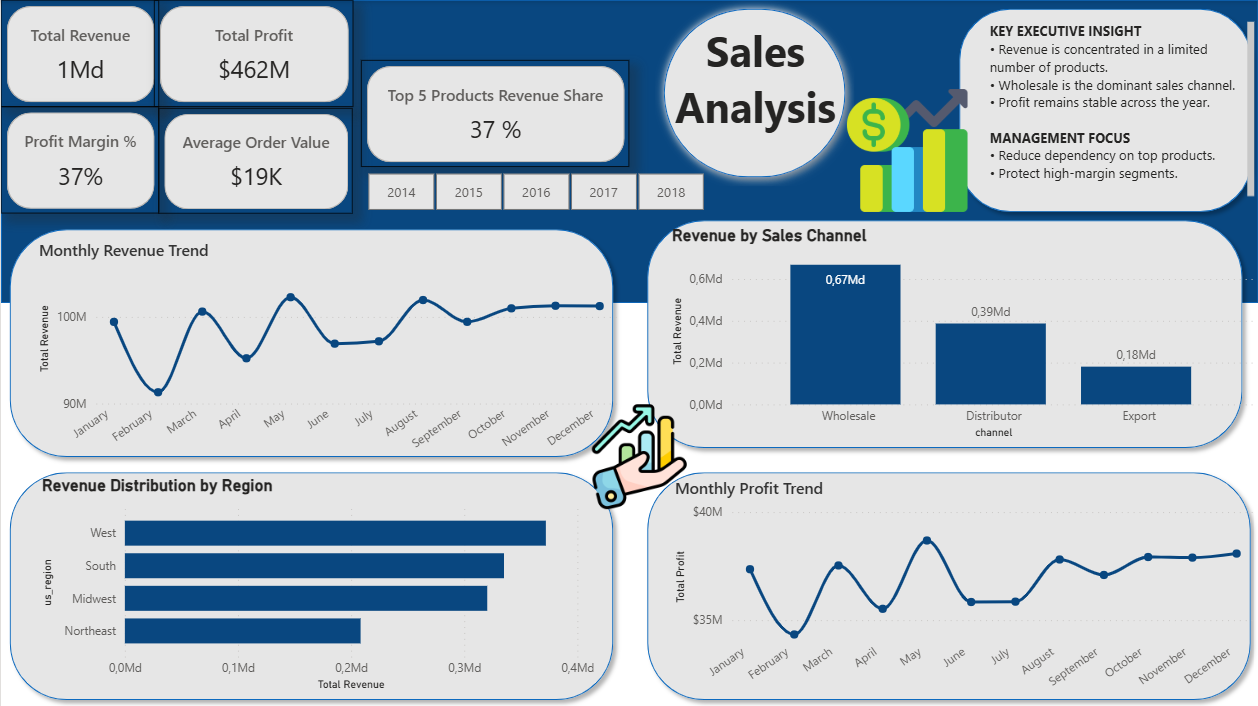

The dashboard page shown, as its layout file describes it:
{"tool":"powerbi","page":{"name":"EXECUTIVE OVERVIEW","canvas":[1280,720],"ordinal":0},"visuals":[{"type":"shape","box":[0,0,1279.5,308.1],"z":0},{"type":"cardVisual","fields":{"Data":["Measures_.Total Revenue"]},"box":[0,0,160.8,108.9],"z":1000},{"type":"cardVisual","fields":{"Data":["Measures_.Total Profit"]},"box":[155.7,0,202.6,108.9],"z":2000},{"type":"cardVisual","fields":{"Data":["Measures_.Profit Margin %"]},"box":[0,108.9,160.8,108.9],"z":3000},{"type":"cardVisual","fields":{"Data":["Measures_.Average Order Value"]},"box":[160.8,110.5,197.6,107.2],"z":4000},{"type":"cardVisual","fields":{"Data":["Measures_.Revenue Concentration %"]},"box":[366.8,60.3,273,108.9],"z":5000},{"type":"shape","box":[648.1,214.4,623,249.5],"z":6000},{"type":"shape","box":[0,470.6,631.4,249.5],"z":7000},{"type":"shape","box":[648.1,470.6,631.4,249.5],"z":8000},{"type":"columnChart","title":"Revenue by Sales Channel","fields":{"Category":["Sales_data.channel"],"Y":["Measures_.Total Revenue"]},"box":[676.6,229.4,602.9,221.1],"z":9000},{"type":"clusteredBarChart","title":"Revenue Distribution by Region","fields":{"Category":["Sales_data.us_region"],"Y":["Measures_.Total Revenue"]},"box":[36.8,484,571.1,222.7],"z":10000},{"type":"shape","box":[0,224.4,631.4,249.5],"z":11000},{"type":"shape","box":[964.6,0,314.8,224.4],"z":12000},{"type":"textbox","box":[999.8,16.7,279.7,197.6],"z":13000},{"type":"shape","box":[664.8,0,202.6,189.2],"z":14000},{"type":"textbox","box":[664.8,16.7,204.3,137.3],"z":15000},{"type":"image","box":[844,72,155.7,162.4],"z":16000},{"type":"image","box":[589.5,405.3,117.2,117.2],"z":17000},{"type":"slicer","fields":{"Values":["Sales_data.year"]},"box":[347.2,169.1,390.9,51.3],"z":18000},{"type":"lineChart","title":"Monthly Revenue Trend","fields":{"Category":["Sales_data.order_month_name"],"Y":["Measures_.Total Revenue"]},"box":[33.2,243,597.7,235.5],"z":19000},{"type":"lineChart","title":"Monthly Profit Trend","fields":{"Category":["Sales_data.order_month_name"],"Y":["Measures_.Total Profit"]},"box":[680.7,484.3,598.7,235.2],"z":20000}]}

Visuals, with their boxes in screenshot pixels (x1, y1, x2, y2), scaled from the page's 1280x720 canvas onto the 1258x706 screenshot:
shape: select_region(0, 0, 1257, 302)
cardVisual - Measures_.Total Revenue: select_region(0, 0, 158, 107)
cardVisual - Measures_.Total Profit: select_region(153, 0, 352, 107)
cardVisual - Measures_.Profit Margin %: select_region(0, 107, 158, 214)
cardVisual - Measures_.Average Order Value: select_region(158, 108, 352, 213)
cardVisual - Measures_.Revenue Concentration %: select_region(360, 59, 629, 166)
shape: select_region(637, 210, 1249, 455)
shape: select_region(0, 461, 621, 705)
shape: select_region(637, 461, 1257, 705)
"Revenue by Sales Channel" columnChart: select_region(665, 225, 1257, 442)
"Revenue Distribution by Region" clusteredBarChart: select_region(36, 475, 597, 693)
shape: select_region(0, 220, 621, 465)
shape: select_region(948, 0, 1257, 220)
textbox: select_region(983, 16, 1257, 210)
shape: select_region(653, 0, 852, 186)
textbox: select_region(653, 16, 854, 151)
image: select_region(829, 71, 983, 230)
image: select_region(579, 397, 695, 512)
slicer - Sales_data.year: select_region(341, 166, 725, 216)
"Monthly Revenue Trend" lineChart: select_region(33, 238, 620, 469)
"Monthly Profit Trend" lineChart: select_region(669, 475, 1257, 705)
